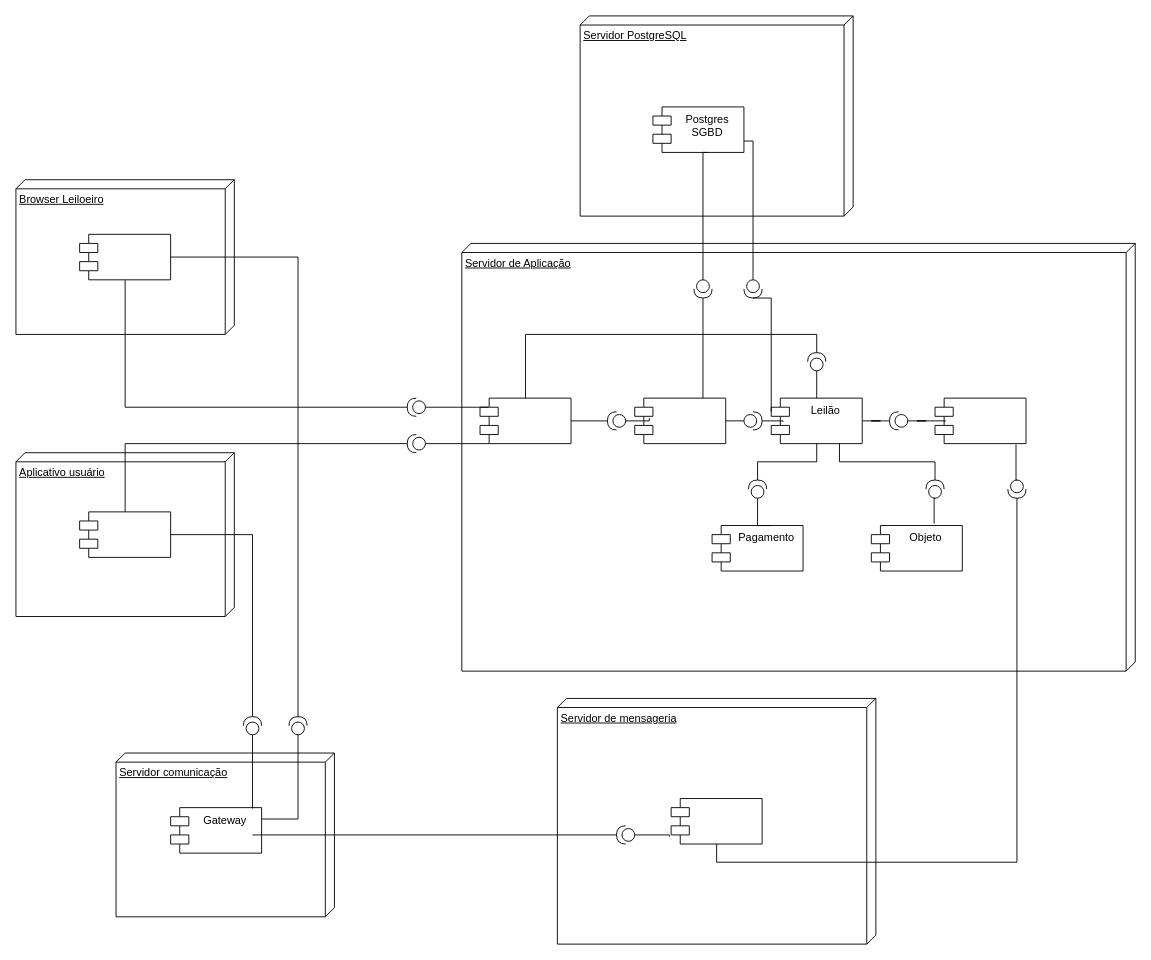
The diagram is 1151 pixels wide and 960 high, and some of its shapes have lost their labels. The shapes that lost their labels are listed below. From the top down, each one's centre as x and y in pixels, then its label:
the point at 125,256: Interface web
the point at 525,420: Visão
the point at 680,420: Autenticação
the point at 980,420: Comunicação
the point at 125,534: Interface mobile
the point at 716,821: RabbitMQ
